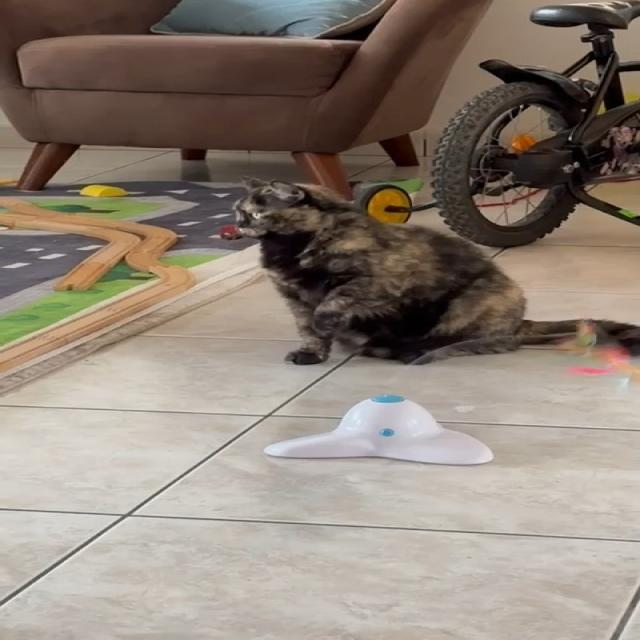authorized: (221, 174, 639, 366)
